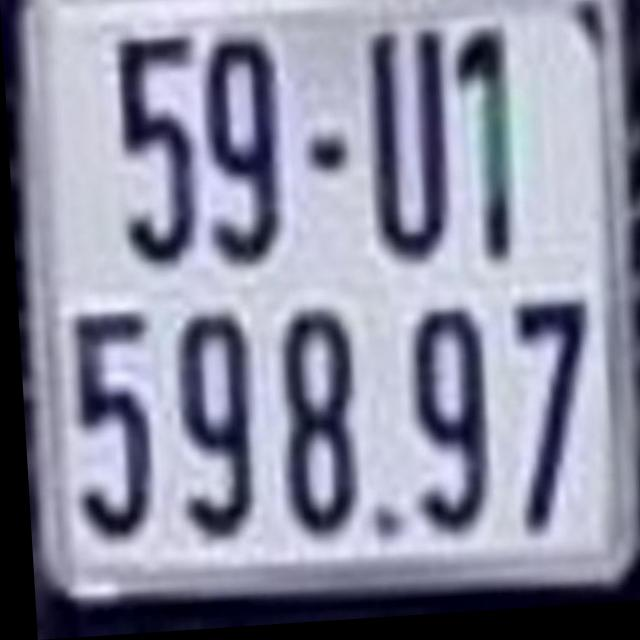1: (449, 16, 515, 270)
5: (104, 31, 205, 269), (65, 305, 146, 537)
7: (502, 299, 591, 545)
8: (268, 308, 350, 544)
9: (399, 310, 494, 543), (197, 31, 286, 270), (168, 312, 252, 540)
U: (358, 24, 454, 272)
